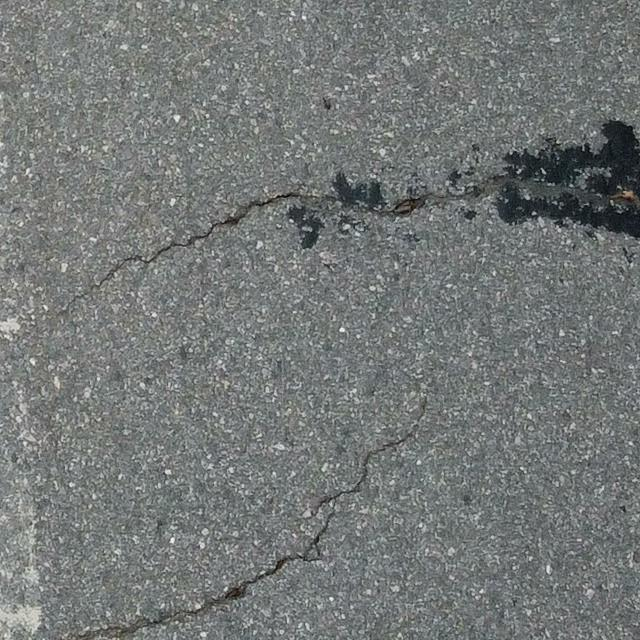TransverseCrack: (72, 397, 433, 640), (59, 174, 640, 310)
